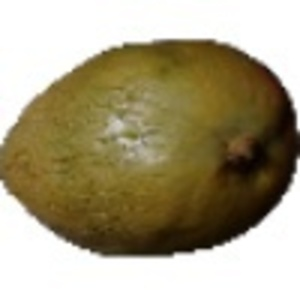mamão: (4, 35, 297, 268)
